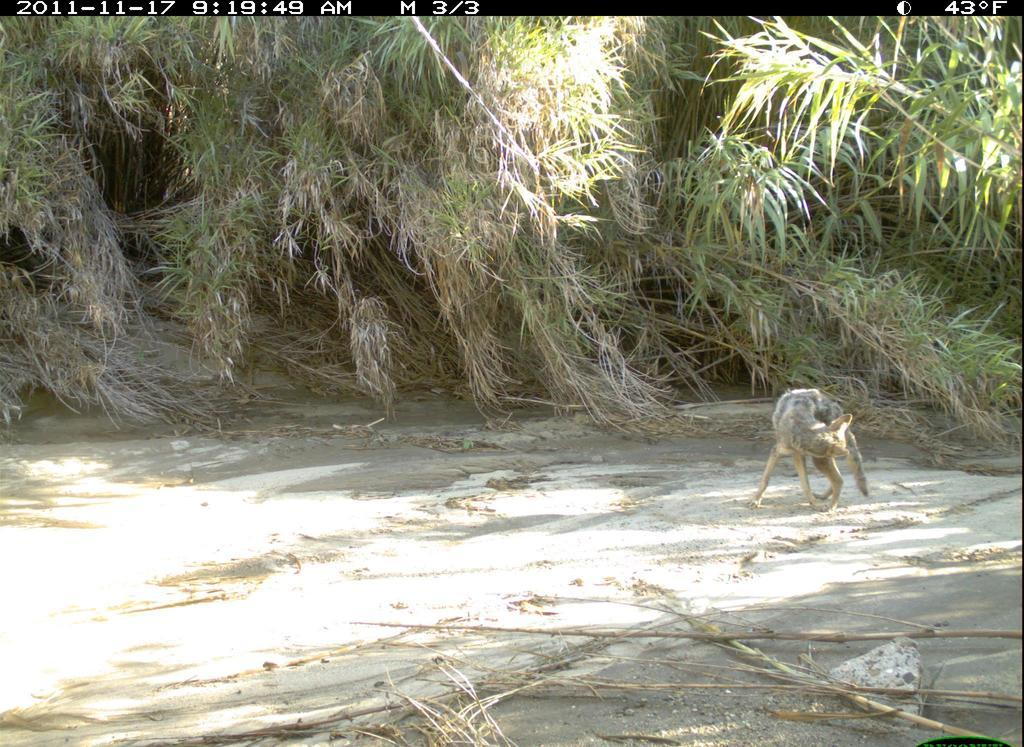coyote: (749, 377, 885, 530)
